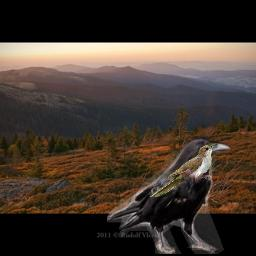Crow: (107, 135, 231, 254)
Cuckoo: (149, 143, 217, 197)
